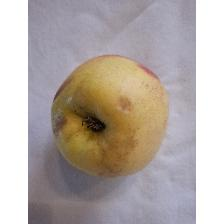Apfel: (48, 52, 172, 180)
